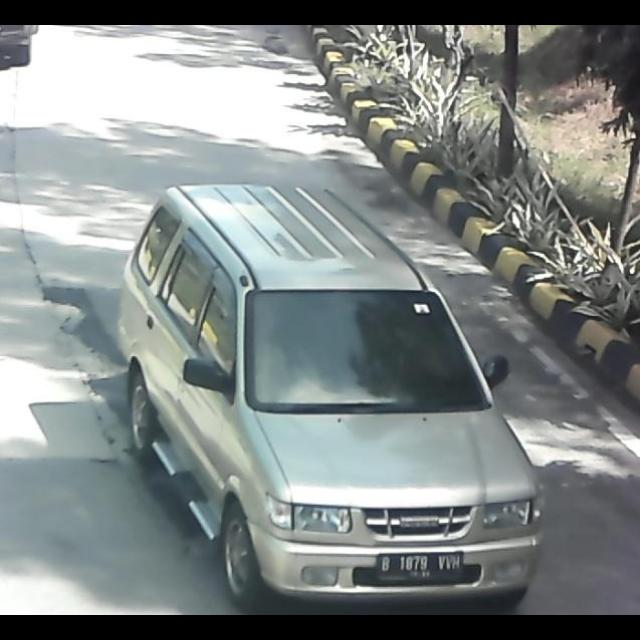plate: (374, 552, 468, 586)
